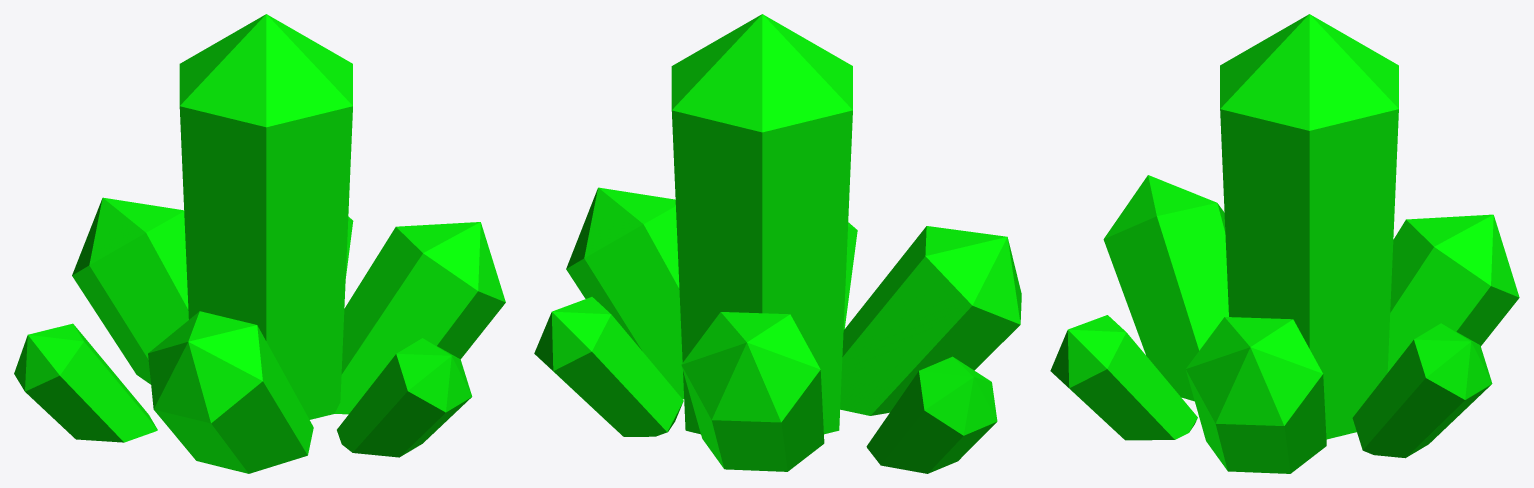
File: alchemica_crystal_fud.fbx
3 views of the same model, side by side, from view 1: azimuth 30°, elevation 25°; view 2: azimuth 150°, elevation 25°; view 3: azimuth 270°, elevation 25° (orthographic). The views are drawn at different scales.
Visible parts, largest first — view 1: alchemica_crystal_fud; view 2: alchemica_crystal_fud; view 3: alchemica_crystal_fud.
Part boxes in pixels (x1,y1,x2,y2): alchemica_crystal_fud: [14, 14, 505, 473]; alchemica_crystal_fud: [534, 14, 1021, 473]; alchemica_crystal_fud: [1050, 14, 1519, 473].
Size of the model in its own units: 2.11 by 1.77 by 1.92.
